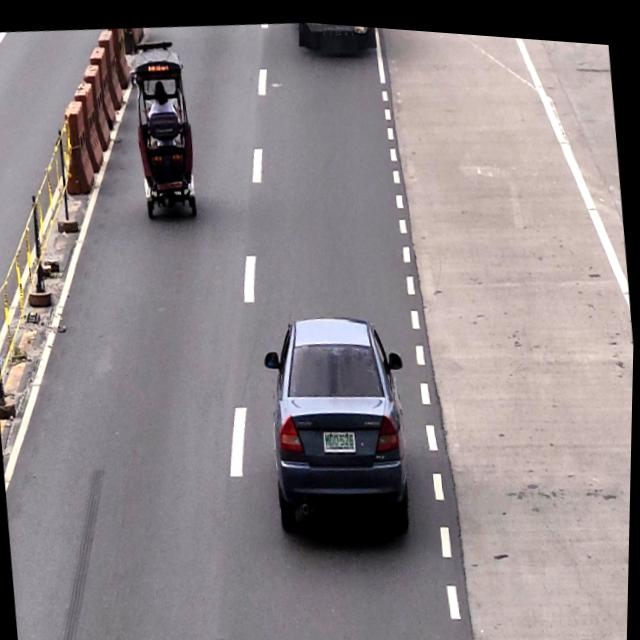Car: (261, 306, 419, 536)
License-Plate: (325, 424, 358, 450)
